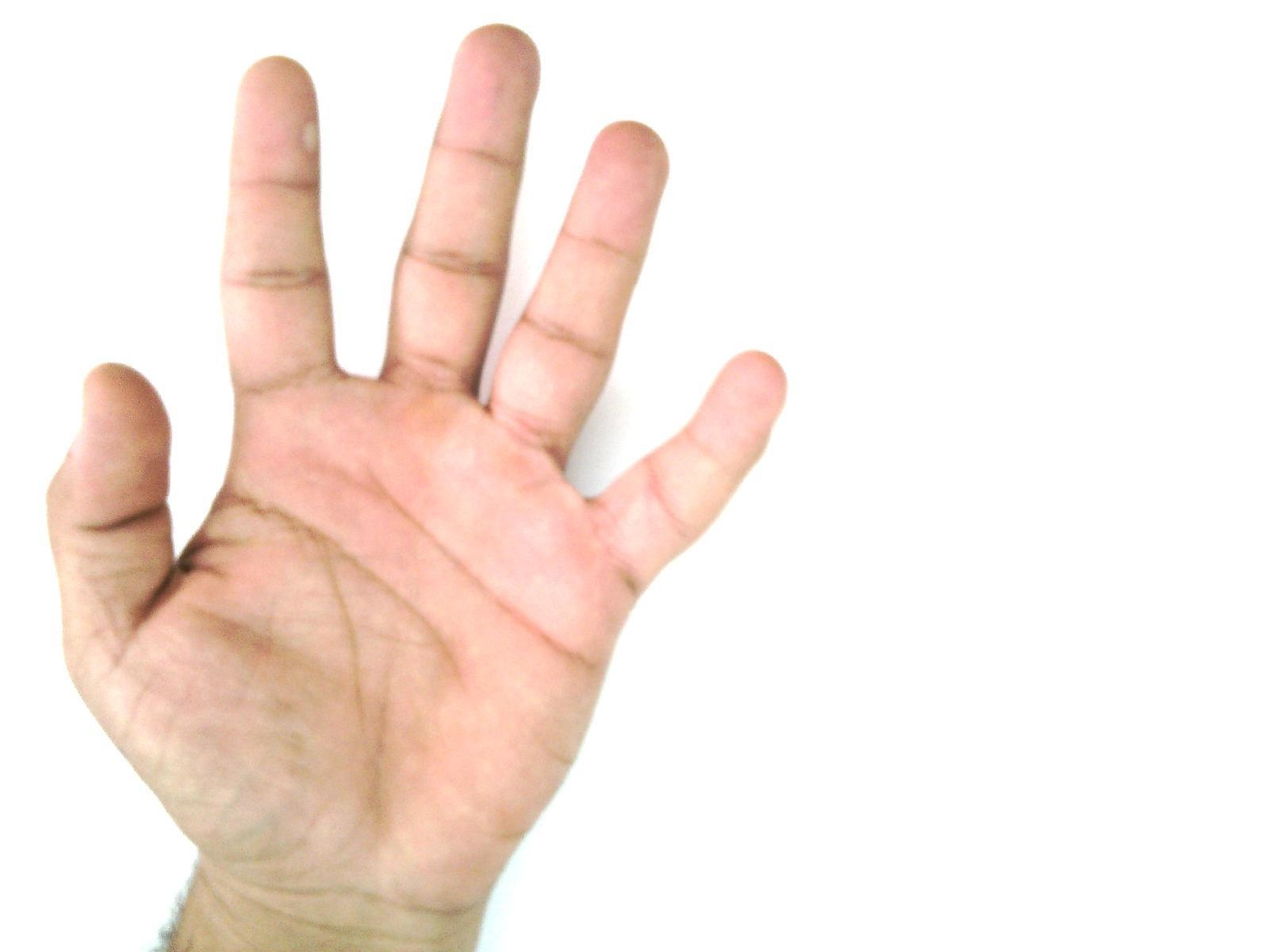open_palm: (44, 22, 795, 918)
